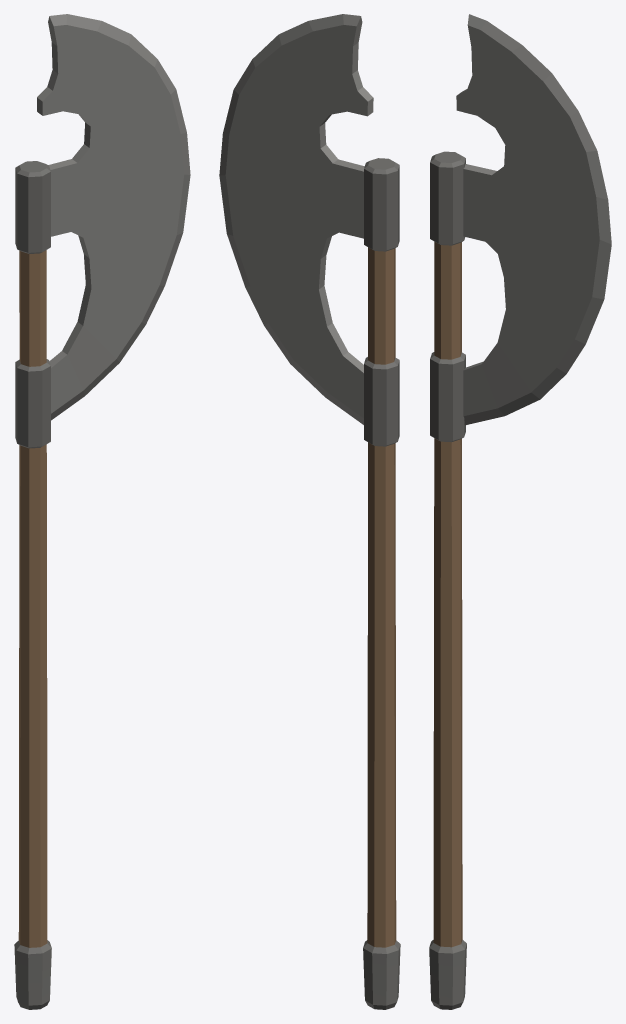
File: SM_pwe_medieval_halberd_03.fbx
The picture shows the model from 3 angles, left to right: view 1: azimuth 30°, elevation 25°; view 2: azimuth 150°, elevation 25°; view 3: azimuth 330°, elevation 25°; orthographic projection.
Visible parts, largest first — view 1: SM_pwe_medieval_halberd_03; view 2: SM_pwe_medieval_halberd_03; view 3: SM_pwe_medieval_halberd_03.
Boxes of the visible parts, box(x1,y1,x2,y2) form: SM_pwe_medieval_halberd_03: box(14, 14, 190, 1009); SM_pwe_medieval_halberd_03: box(219, 14, 400, 1009); SM_pwe_medieval_halberd_03: box(429, 14, 611, 1009).
Size of the model in its own units: 30.92 by 165 by 5.88.
